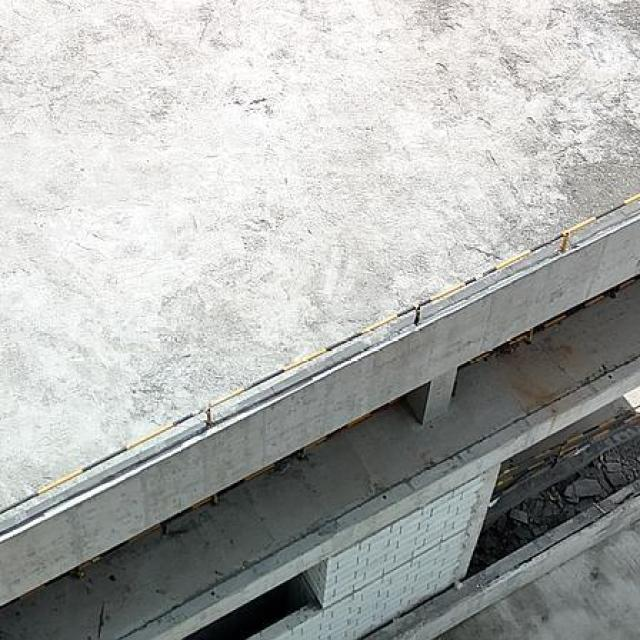edge_guardrail: (0, 192, 640, 517), (26, 398, 401, 602), (466, 276, 637, 365), (490, 404, 640, 502)
